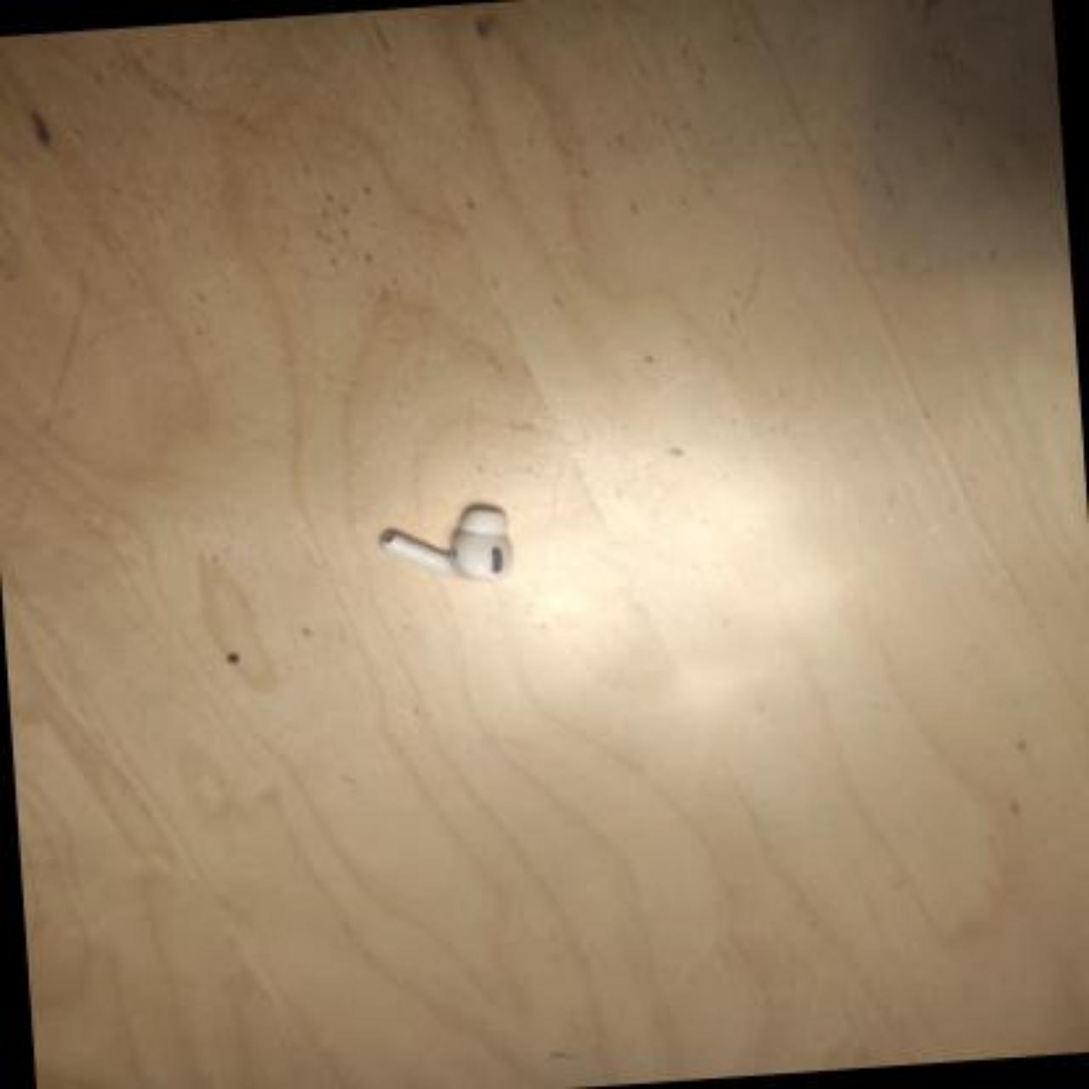Airpods_Units: (388, 506, 518, 587)
